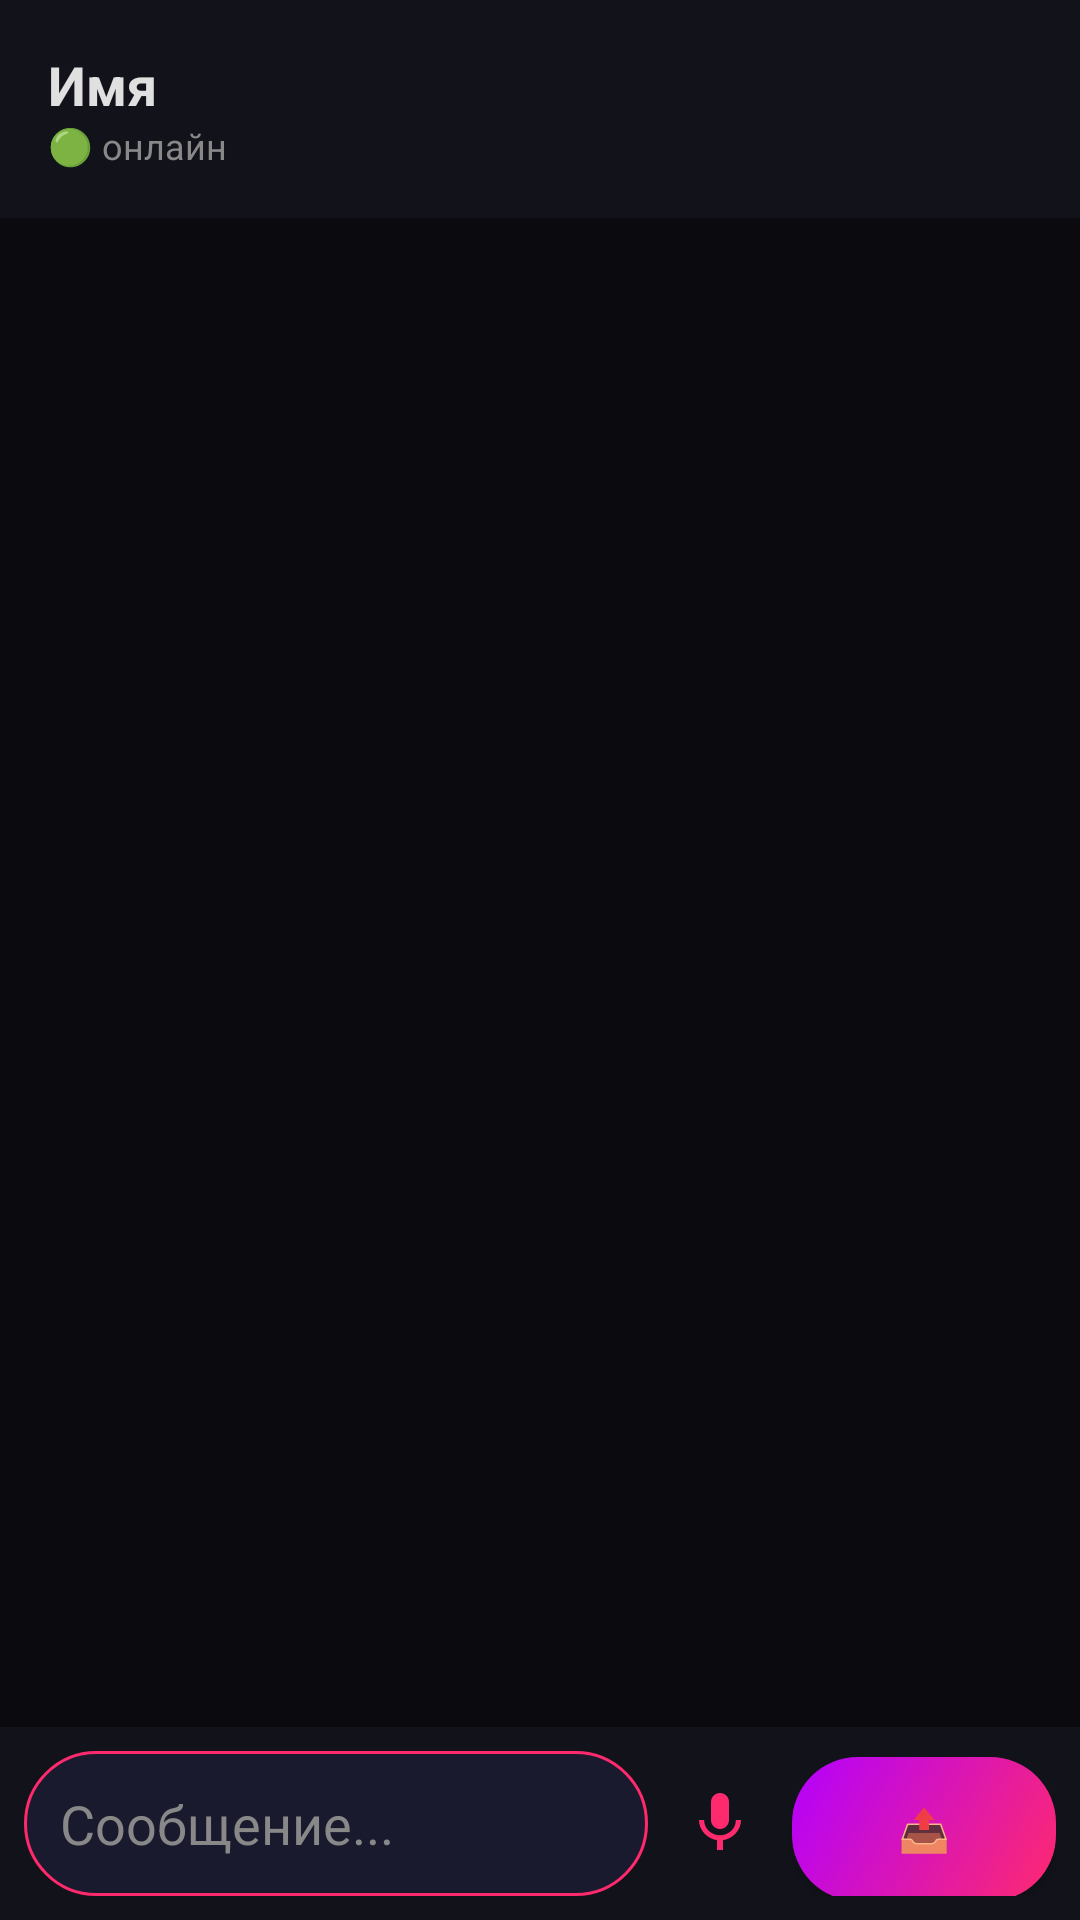

Where to tap for icons on this 1080*1920 app screen, as (x=x, y=y):
mic: (x=720, y=1821)
